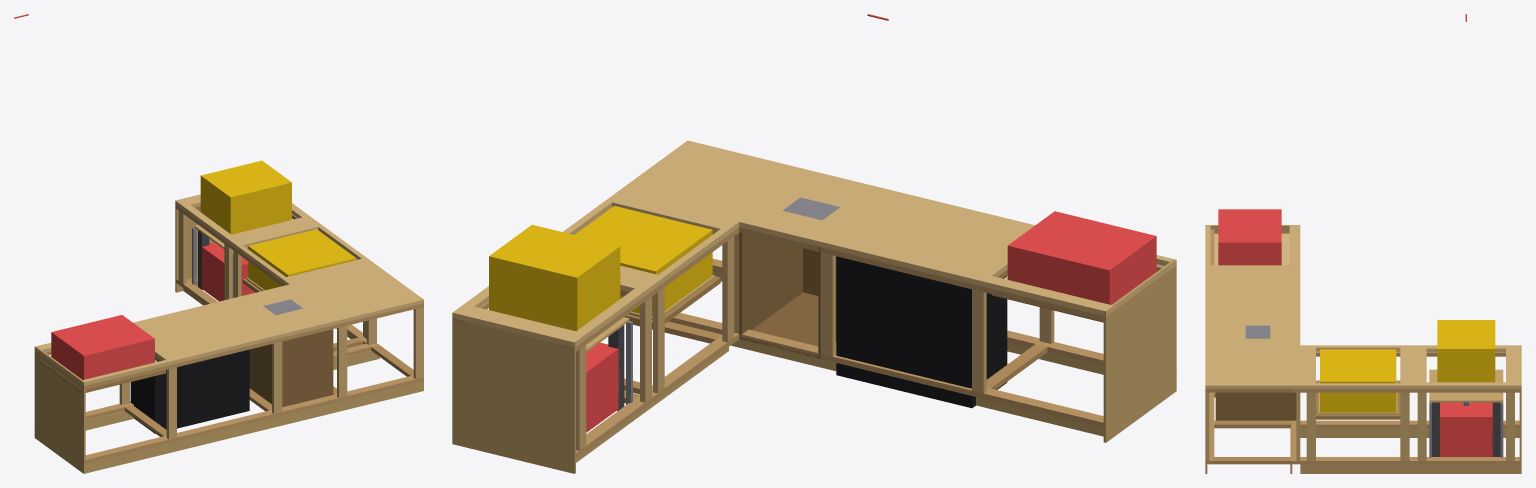
Rendered from l_bench.dae.
3 views of the same model, side by side, from view 1: azimuth 30°, elevation 25°; view 2: azimuth 150°, elevation 25°; view 3: azimuth 270°, elevation 25° (orthographic). The views are drawn at different scales.
Parts seen in each view (by area): view 1: Tall_Husky_40x18x36, TopLeg_Top_MidRight, Planer_Body_Working, Miter_Saw_Body_Ghost, TopLeg_Top_FarRight, TopLeg_EndPanel_Left, TopLeg_ToeKick_Back, Saw_Body, Router_Cabinet_Back, TopLeg_BackBottomRail, TopLeg_BackTopRail, Planer_Body_Stored_Ghost (+20 smaller); view 2: Tall_Husky_40x18x36, ShortLeg_EndPanel_Front, TopLeg_Top_MidRight, Planer_Body_Working, Miter_Saw_Body_Ghost, TopLeg_EndPanel_Left, TopLeg_Top_FarRight, Saw_Body, Router_Cabinet_Right, TopLeg_FrontBottomRail, Planer_Body_Stored_Ghost, TopLeg_Top_RouterBack (+25 smaller); view 3: TopLeg_Top_MidRight, Saw_Body, TopLeg_Top_FarRight, Planer_Body_Working, Miter_Saw_Body_Ghost, Planer_Body_Stored_Ghost, Router_Cabinet_Right, ShortLeg_ToeKick_Wall, ShortLeg_WallBottomRail, ShortLeg_Top_BetweenCavities, TopLeg_Top_RouterBack, ShortLeg_ToeKick_Room (+23 smaller).
Boxes of the visible parts, <box> form: Tall_Husky_40x18x36: <box>130,349,249,433</box>; TopLeg_Top_MidRight: <box>133,298,282,365</box>; Planer_Body_Working: <box>200,160,291,234</box>; Miter_Saw_Body_Ghost: <box>51,315,154,379</box>; TopLeg_Top_FarRight: <box>290,263,423,323</box>; TopLeg_EndPanel_Left: <box>34,346,85,463</box>; TopLeg_ToeKick_Back: <box>82,381,423,473</box>; Saw_Body: <box>248,229,356,290</box>; Router_Cabinet_Back: <box>282,329,333,407</box>; TopLeg_BackBottomRail: <box>79,375,423,463</box>; TopLeg_BackTopRail: <box>79,303,423,389</box>; Planer_Body_Stored_Ghost: <box>200,242,255,301</box>; Tall_Husky_40x18x36: <box>836,256,1007,408</box>; ShortLeg_EndPanel_Front: <box>452,317,575,459</box>; TopLeg_Top_MidRight: <box>820,190,1034,286</box>; Planer_Body_Working: <box>489,224,620,331</box>; Miter_Saw_Body_Ghost: <box>1007,211,1156,304</box>; TopLeg_EndPanel_Left: <box>1103,259,1176,428</box>; TopLeg_Top_FarRight: <box>617,140,809,221</box>; Saw_Body: <box>575,206,712,316</box>; Router_Cabinet_Right: <box>739,227,802,338</box>; TopLeg_FrontBottomRail: <box>669,313,1106,427</box>; Planer_Body_Stored_Ghost: <box>586,342,619,432</box>; TopLeg_Top_RouterBack: <box>780,170,890,211</box>; TopLeg_Top_MidRight: <box>1205,265,1300,318</box>; Saw_Body: <box>1320,349,1396,412</box>; TopLeg_Top_FarRight: <box>1205,345,1300,388</box>; Planer_Body_Working: <box>1437,320,1495,382</box>; Miter_Saw_Body_Ghost: <box>1218,209,1281,265</box>; Planer_Body_Stored_Ghost: <box>1437,402,1494,456</box>; Router_Cabinet_Right: <box>1215,392,1296,420</box>; ShortLeg_ToeKick_Wall: <box>1300,464,1521,473</box>; ShortLeg_WallBottomRail: <box>1300,457,1521,464</box>; ShortLeg_Top_BetweenCavities: <box>1400,345,1426,388</box>; TopLeg_Top_RouterBack: <box>1205,318,1245,345</box>; ShortLeg_ToeKick_Room: <box>1300,428,1519,437</box>.
Size of the model in its own units: 144 by 120 by 138.
